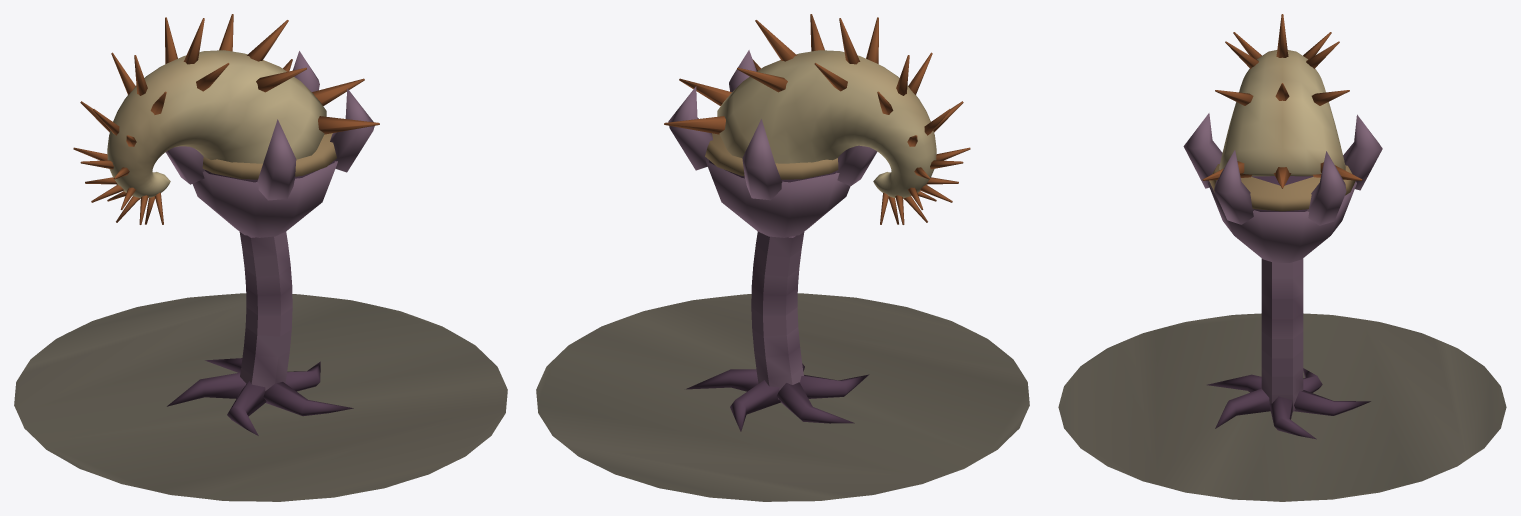
Rendered from Platyceras.fbx.
3 views of the same model, side by side, from view 1: azimuth 30°, elevation 25°; view 2: azimuth 150°, elevation 25°; view 3: azimuth 270°, elevation 25° (orthographic). The views are drawn at different scales.
Parts seen in each view (by area): view 1: Platyceras; view 2: Platyceras; view 3: Platyceras.
Part boxes in pixels (x1=…): Platyceras: x1=14, y1=14, x2=507, y2=501; Platyceras: x1=536, y1=14, x2=1029, y2=501; Platyceras: x1=1058, y1=14, x2=1506, y2=501.
Size of the model in its own units: 1.5 by 1.32 by 1.5.
